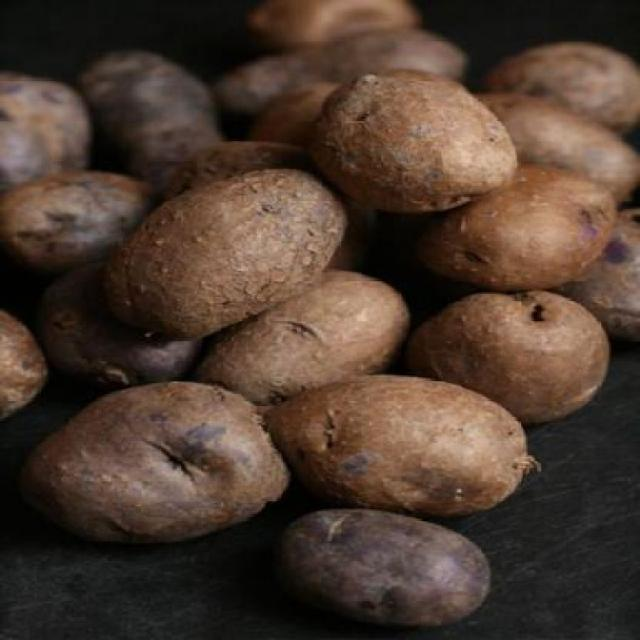Potato: (287, 374, 538, 523)
